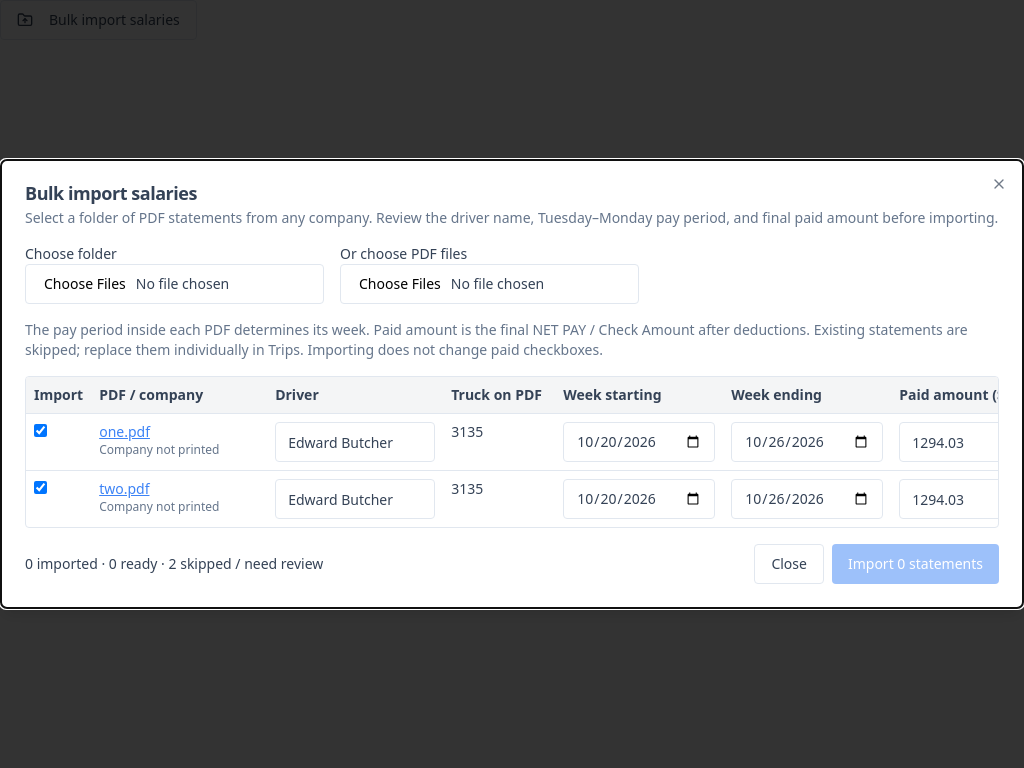
Test: bulk salary folder import › blocks duplicates until one copy is unchecked
This screenshot has width=1024, height=768.
Earlier steps of the test are not shown.
Expected: the field named "Driver 2" is shown, [275,479,435,519]
Expected: the button "Import 0 statements" is disabled, [832,544,999,584]
Click the checkbox named "Import two.pdf": (40, 488) [34,481,47,494]
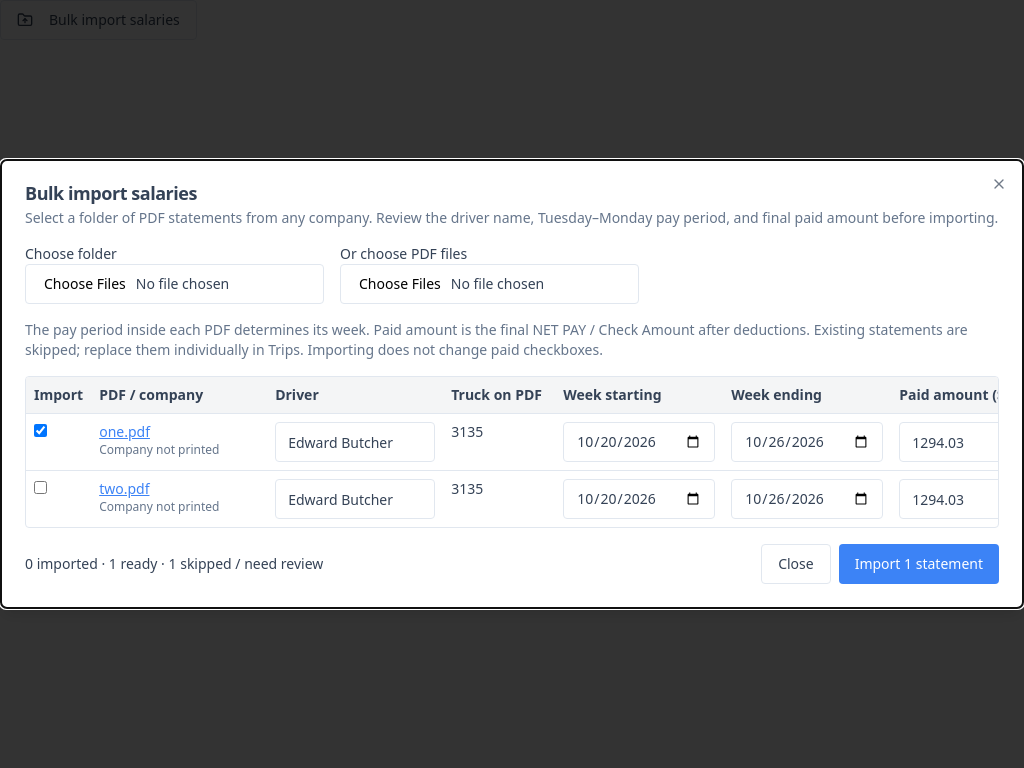
Expected: the button "Import 1 statement" is enabled, [839,544,999,584]
